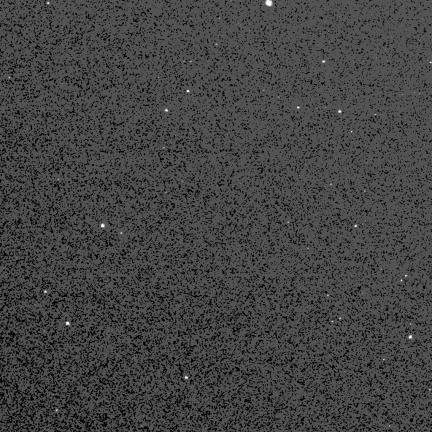blob: (266, 0, 272, 6), (185, 376, 189, 380), (338, 110, 342, 114), (322, 60, 326, 64), (409, 335, 412, 339), (44, 291, 48, 294), (66, 322, 70, 325), (101, 224, 105, 227), (297, 106, 300, 109), (165, 109, 168, 112), (187, 90, 190, 93), (405, 275, 408, 278), (355, 225, 358, 228)
